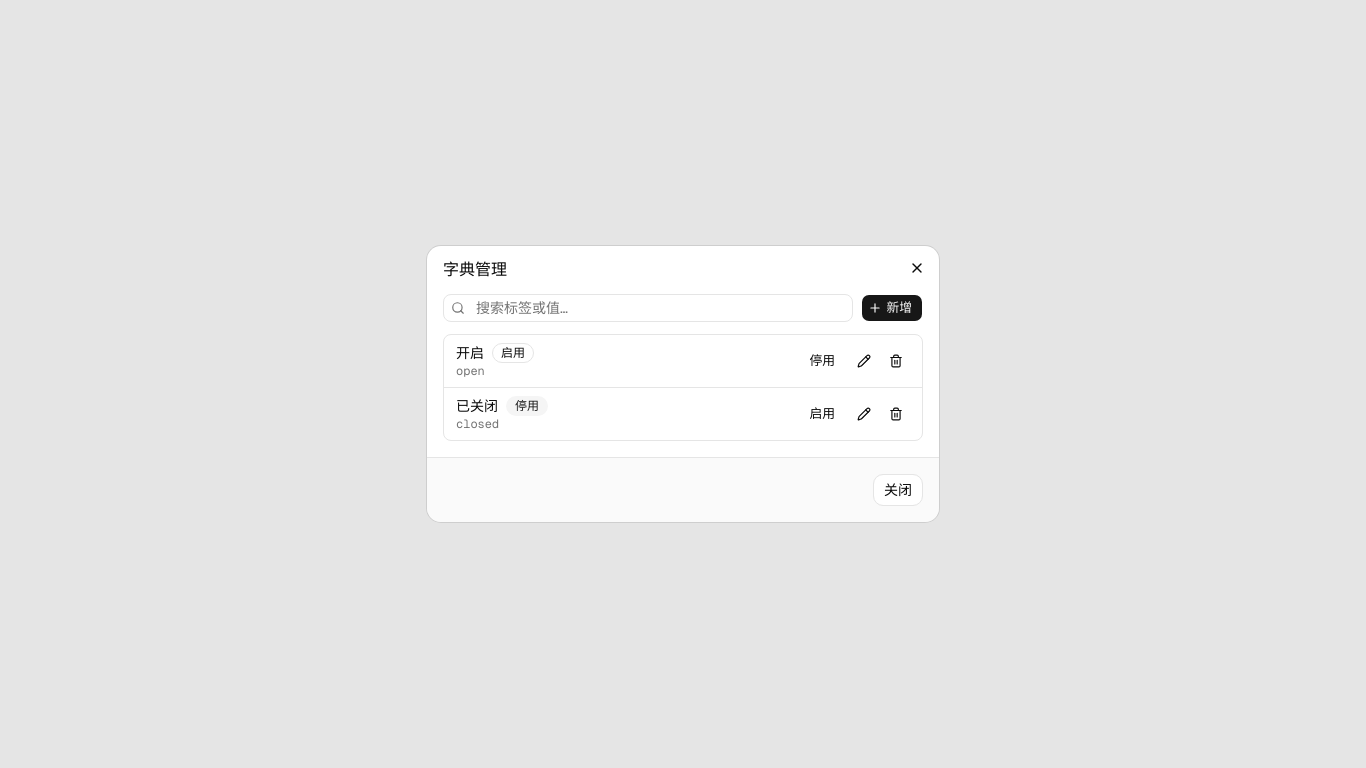
Test: DictManageDialog › rejects empty label
The image size is (1366, 768).
Click the button "新增" at (892, 308), box [861, 294, 923, 322]
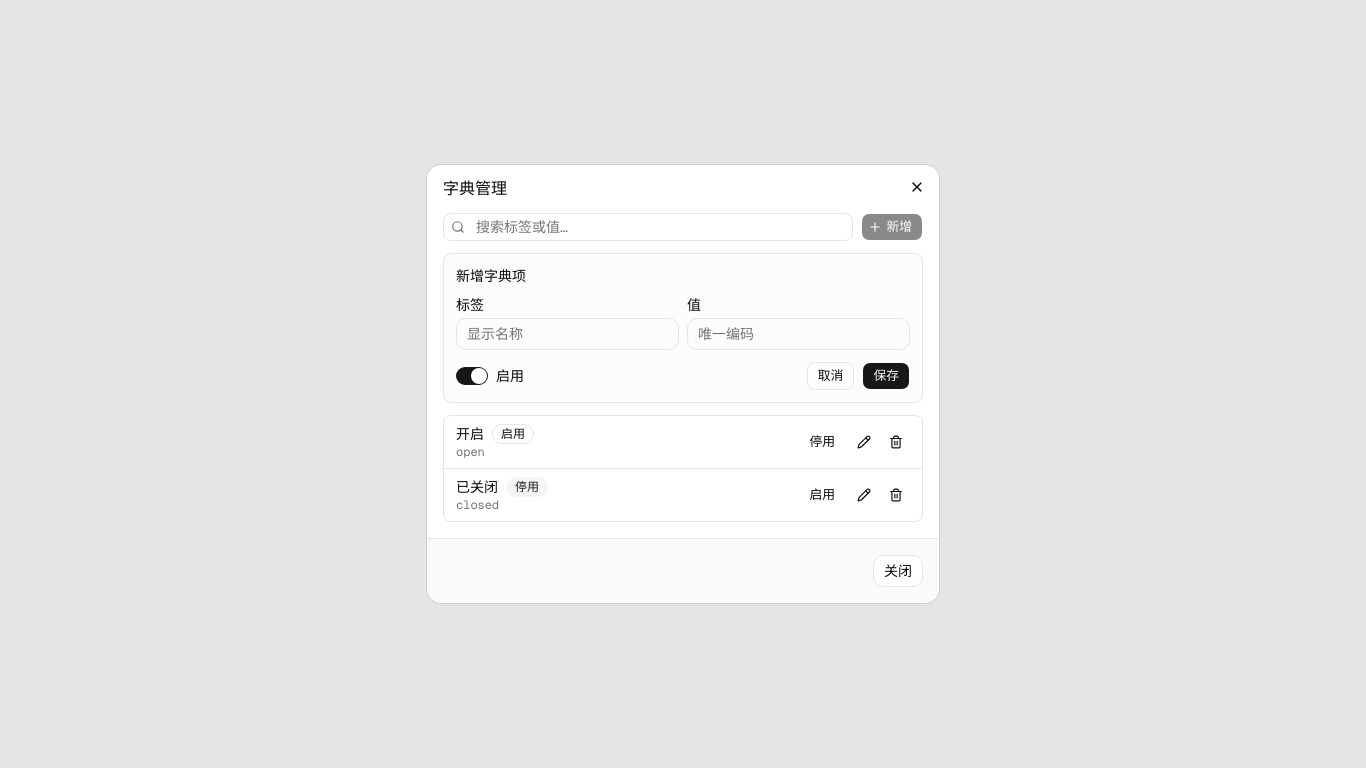
Click the button "保存" at (886, 376), box [862, 362, 910, 390]
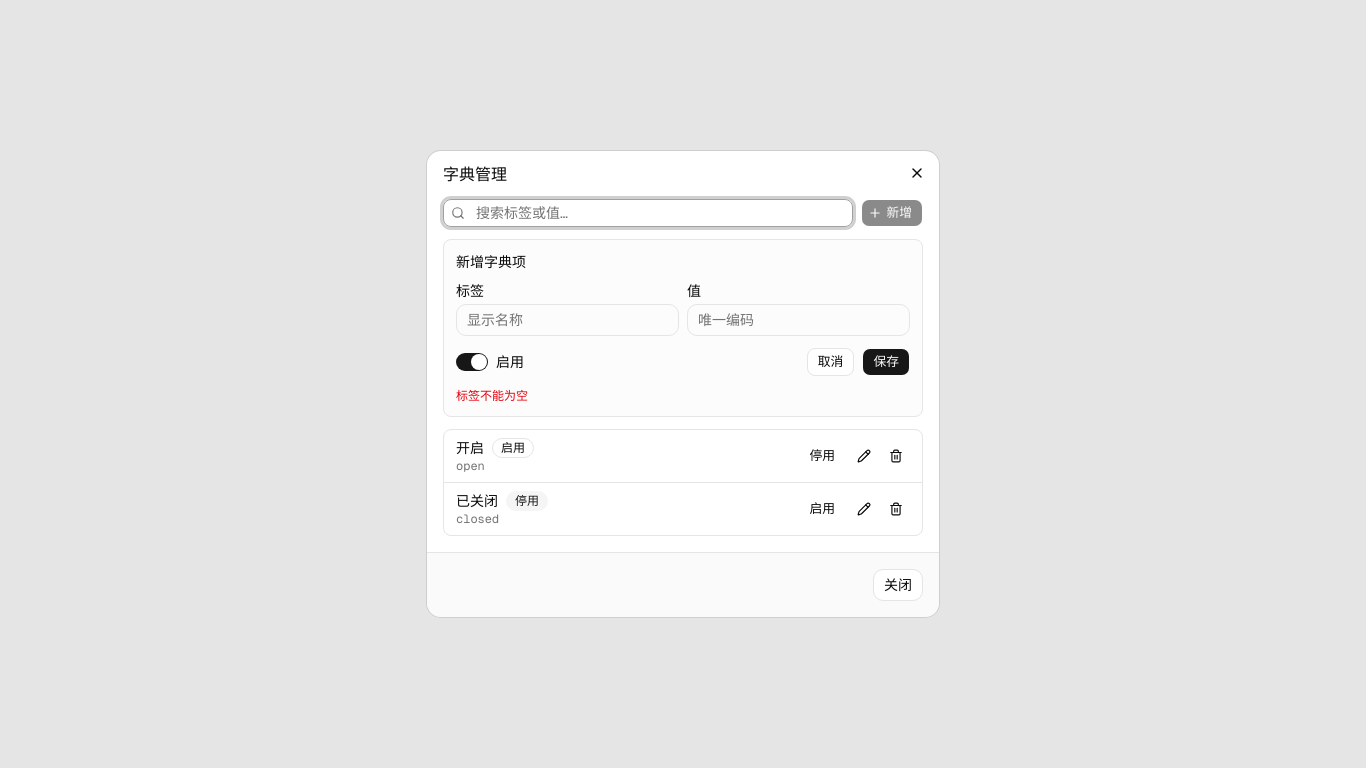
expect the text "标签不能为空" is shown: met, box [456, 388, 528, 404]
